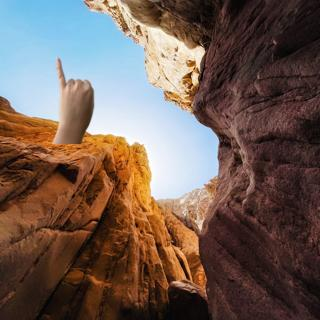Fine: (51, 52, 96, 142)
